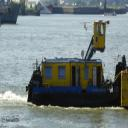tugboat: (27, 18, 124, 111)
